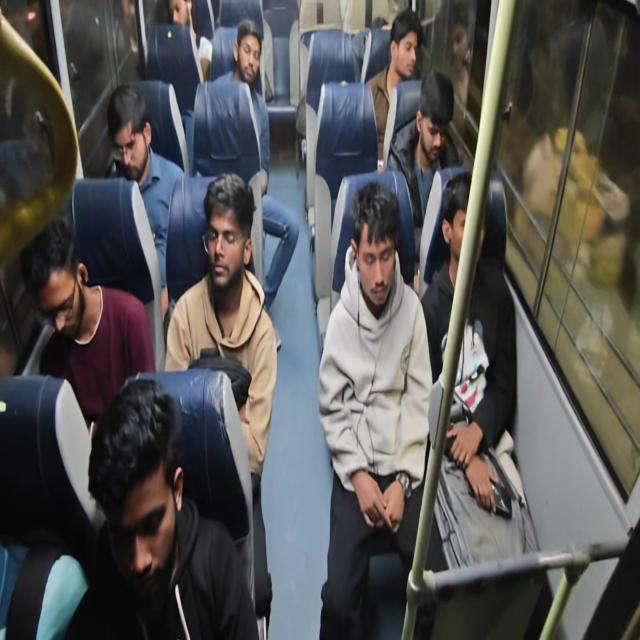person: (318, 180, 434, 638), (164, 171, 277, 635), (64, 376, 260, 639), (420, 171, 540, 571), (22, 215, 156, 432), (212, 18, 300, 346), (106, 84, 185, 317), (385, 68, 456, 230), (365, 7, 423, 169), (169, 0, 213, 84), (214, 18, 263, 88), (443, 21, 471, 131)
